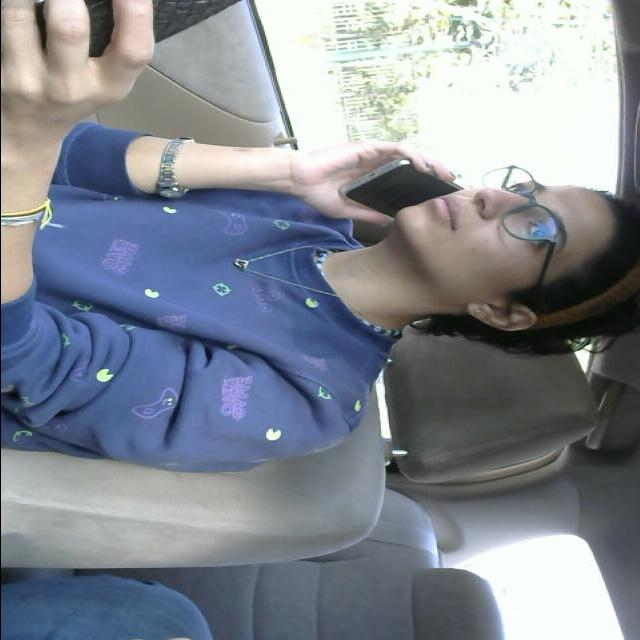mobile use: (332, 154, 467, 216)
